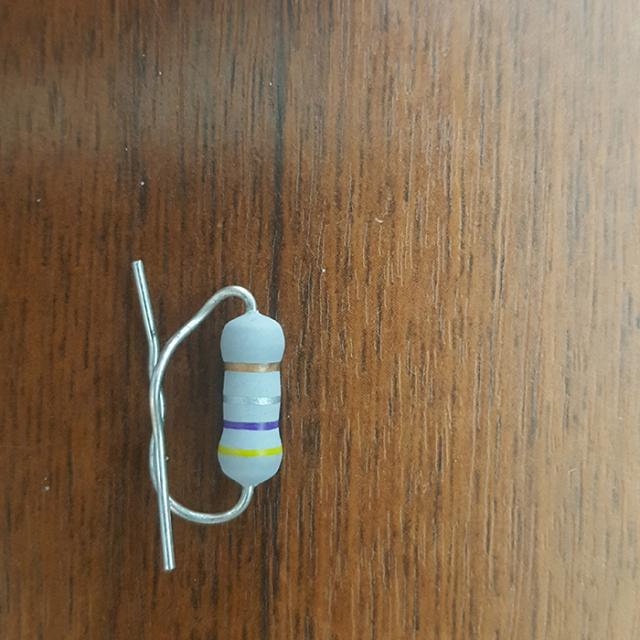Resistor Carbon-Film: (216, 315, 287, 486)
